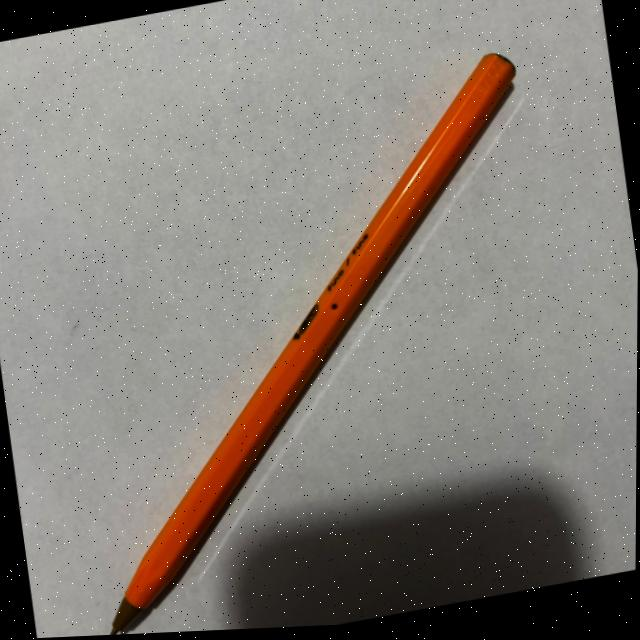pencil: (112, 58, 518, 636)
